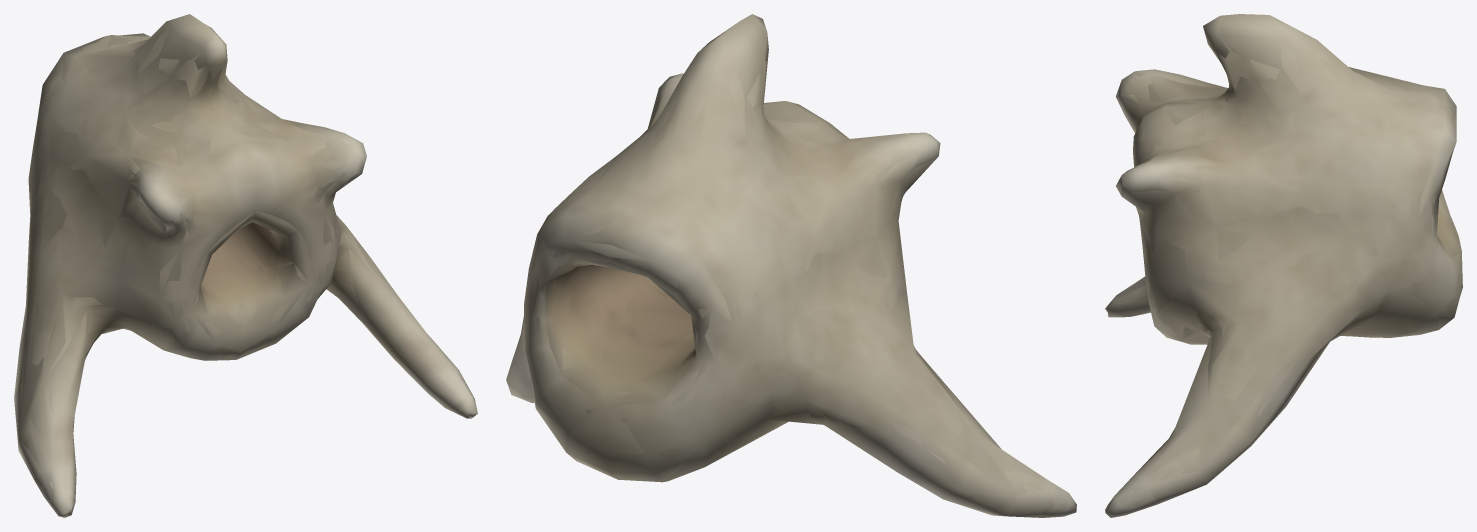
Rendered from vertebrae lumbales 3.fbx.
3 views of the same model, side by side, from view 1: azimuth 30°, elevation 25°; view 2: azimuth 150°, elevation 25°; view 3: azimuth 270°, elevation 25° (orthographic). The views are drawn at different scales.
Parts seen in each view (by area): view 1: vertebrae lumbales 3, vertebrae lumbales 3 low, vertebrae lumbales 3 high; view 2: vertebrae lumbales 3, vertebrae lumbales 3 low, vertebrae lumbales 3 high; view 3: vertebrae lumbales 3, vertebrae lumbales 3 low, vertebrae lumbales 3 high.
Part boxes in pixels (x1,y1,x2,y2): vertebrae lumbales 3: [14, 14, 477, 517]; vertebrae lumbales 3 low: [15, 28, 467, 505]; vertebrae lumbales 3 high: [19, 25, 471, 514]; vertebrae lumbales 3: [506, 14, 1076, 517]; vertebrae lumbales 3 low: [507, 35, 1053, 516]; vertebrae lumbales 3 high: [517, 37, 1063, 503]; vertebrae lumbales 3: [1105, 14, 1461, 517]; vertebrae lumbales 3 low: [1110, 17, 1462, 499]; vertebrae lumbales 3 high: [1120, 25, 1460, 500].
Size of the model in its own units: 2.03 by 1.82 by 1.46.
1 material, 1 textured.
